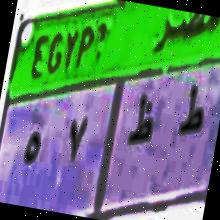5: (20, 121, 46, 174)
7: (62, 109, 90, 168)
Taa: (173, 84, 209, 148)
Thaa: (126, 90, 160, 154)
